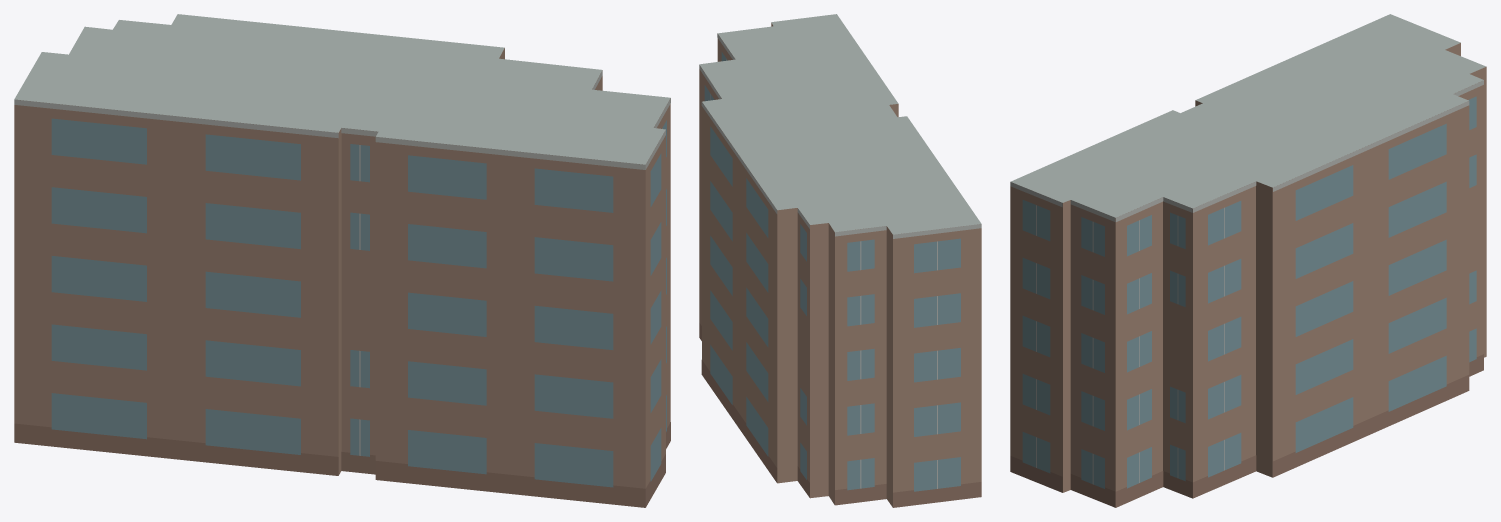
The model's file is survey-upis-32963795.glb.
3 views of the same model, side by side, from view 1: azimuth 30°, elevation 25°; view 2: azimuth 150°, elevation 25°; view 3: azimuth 270°, elevation 25° (orthographic). The views are drawn at different scales.
Visible parts, largest first — view 1: survey-upis-32963795.tmp; view 2: survey-upis-32963795.tmp; view 3: survey-upis-32963795.tmp.
Boxes of the visible parts, <box> form: survey-upis-32963795.tmp: <box>14,14,670,507</box>; survey-upis-32963795.tmp: <box>699,14,981,507</box>; survey-upis-32963795.tmp: <box>1010,14,1486,507</box>.
Size of the model in its own units: 23.52 by 15.6 by 23.22.
